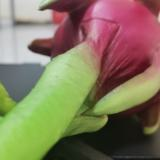pitaya: (27, 1, 160, 136)
